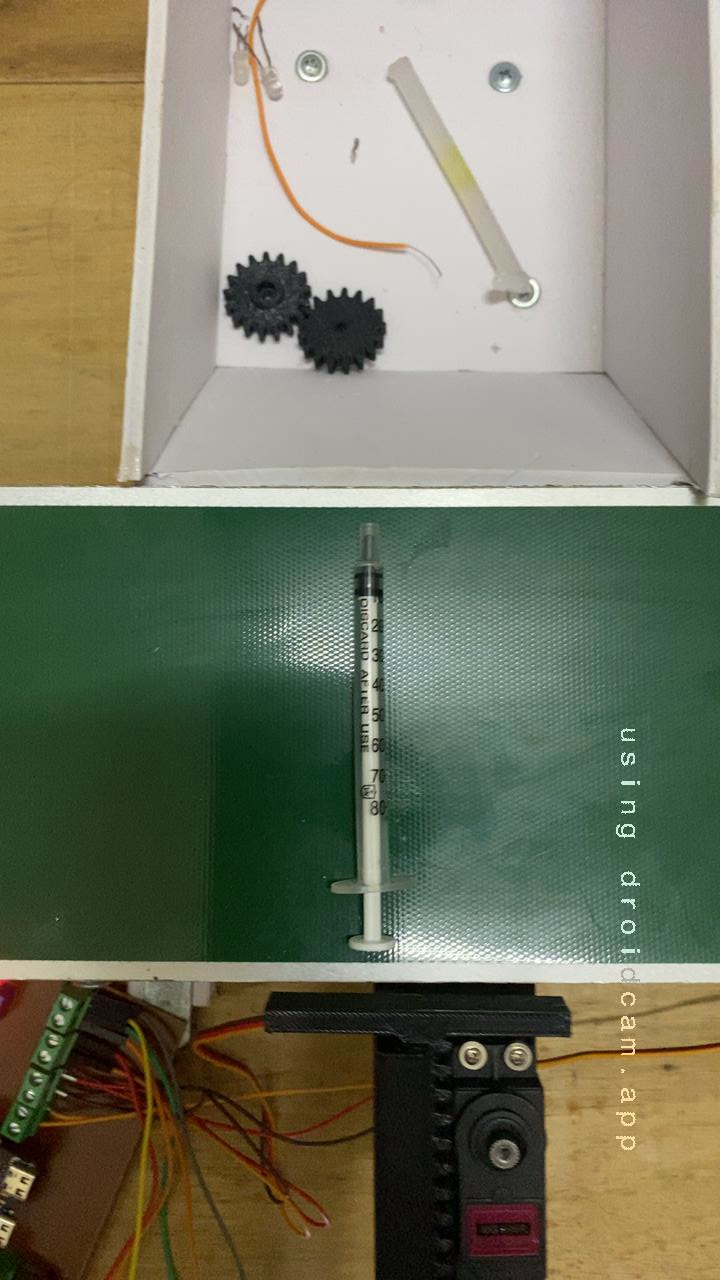syringe: (295, 547, 439, 976)
